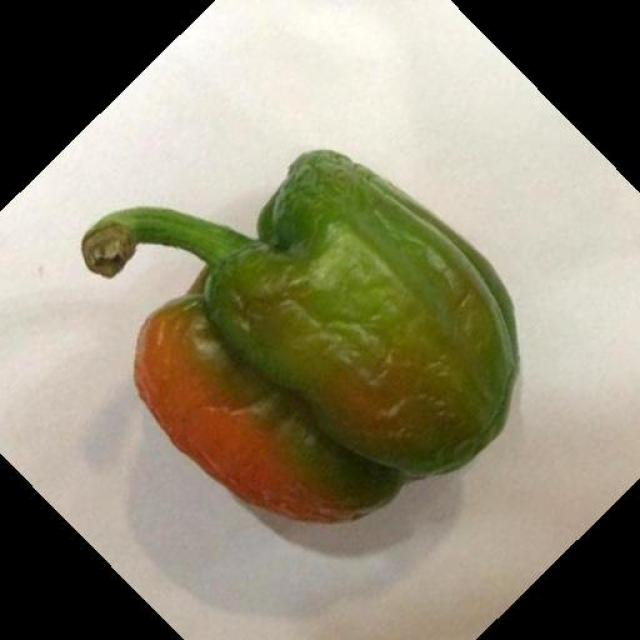Stale_Capsicum: (112, 142, 500, 522)
